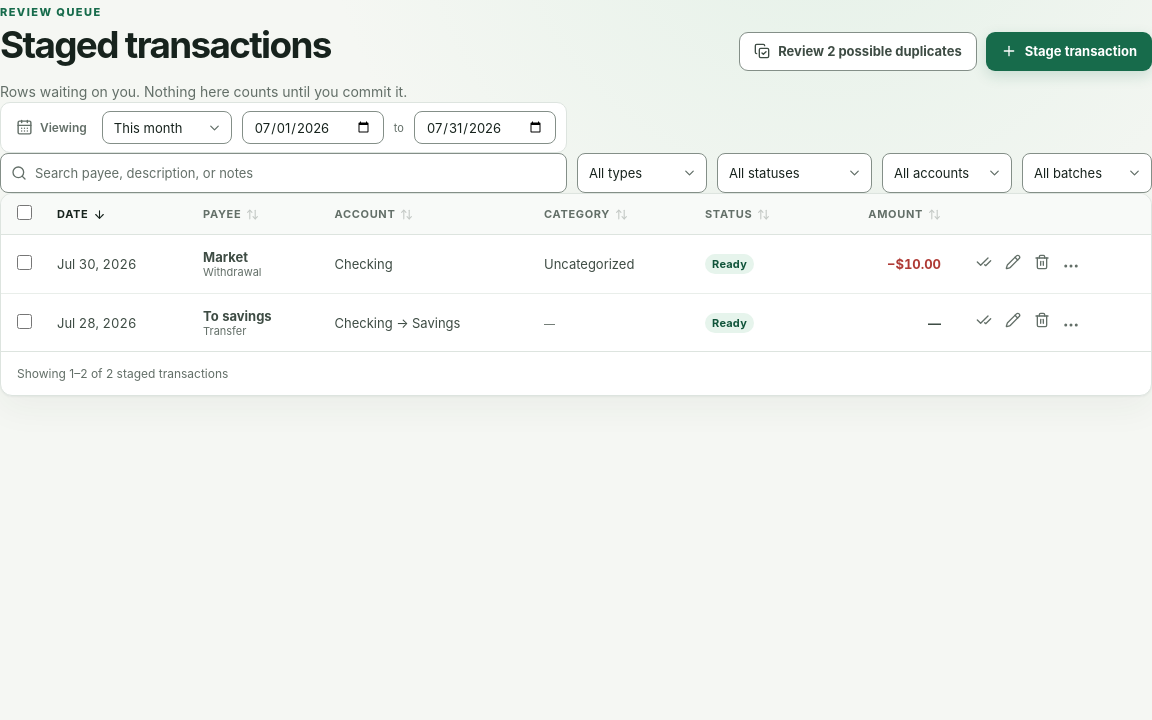
editing staged rows in bulk › withholds account and type while a transfer is selected
expect the text "To savings" is shown: met, box [203,308,272,324]
Click the checkbox named "Select Market": (24, 263) [16,255,32,270]
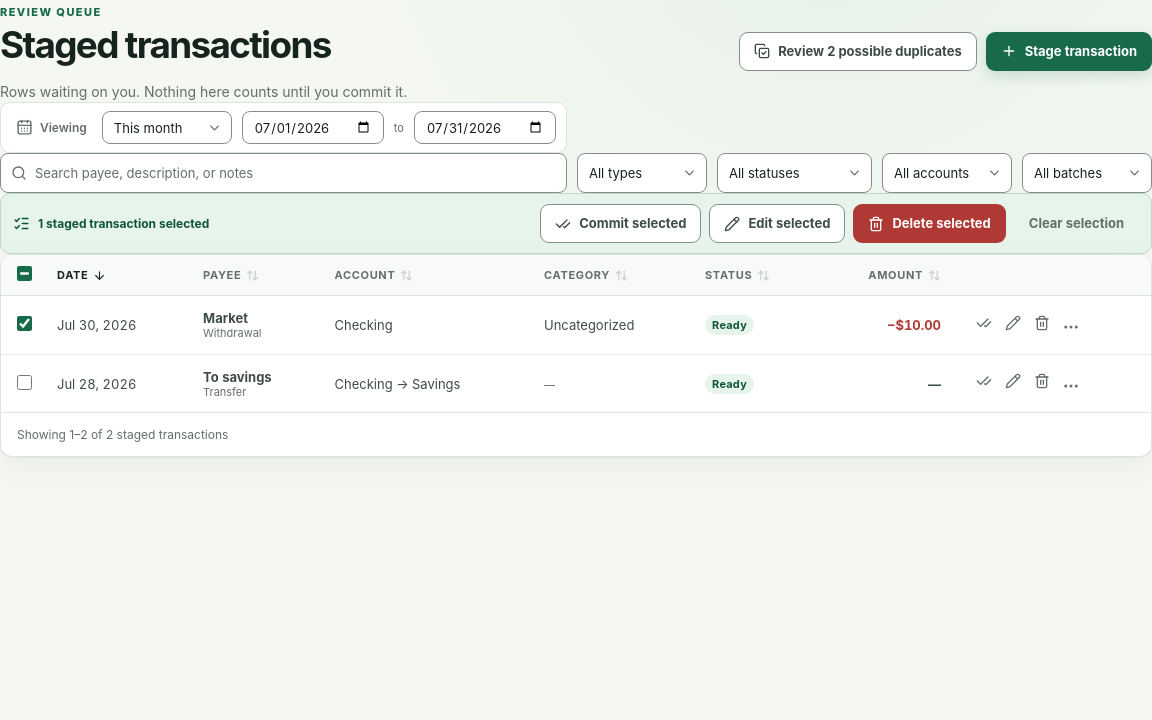
Click the checkbox named "Select To savings": (24, 382) [16,374,32,390]
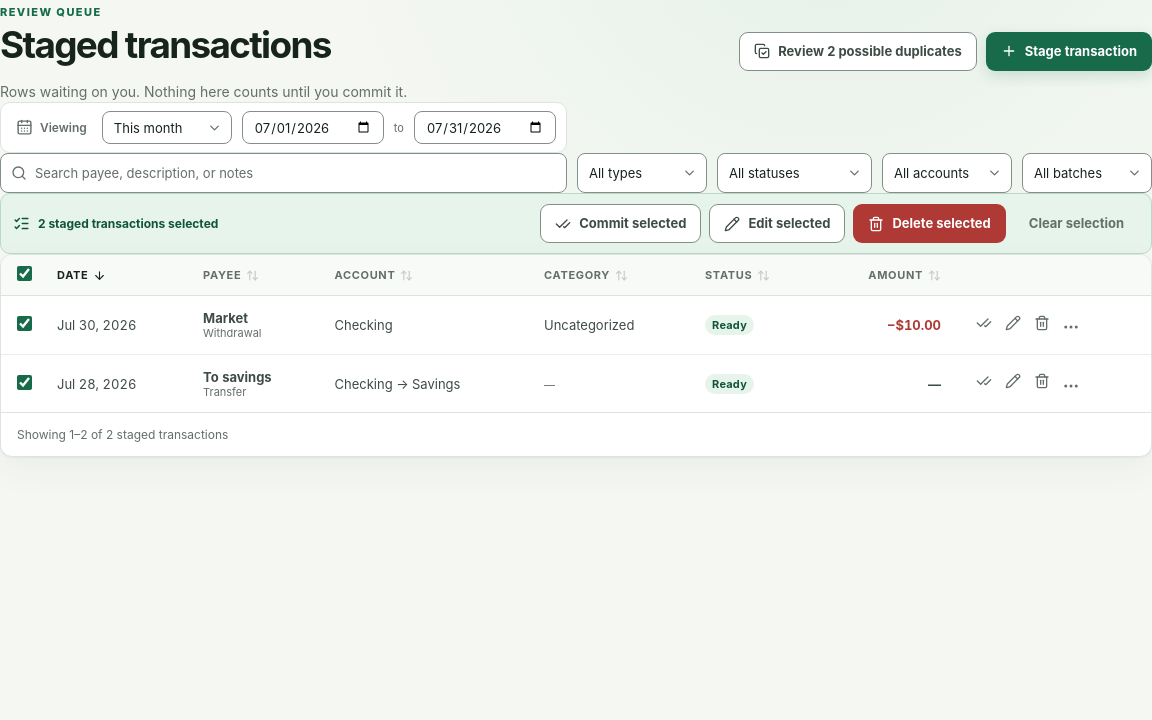
Click the button "Edit selected": (777, 224) [709,204,845,243]
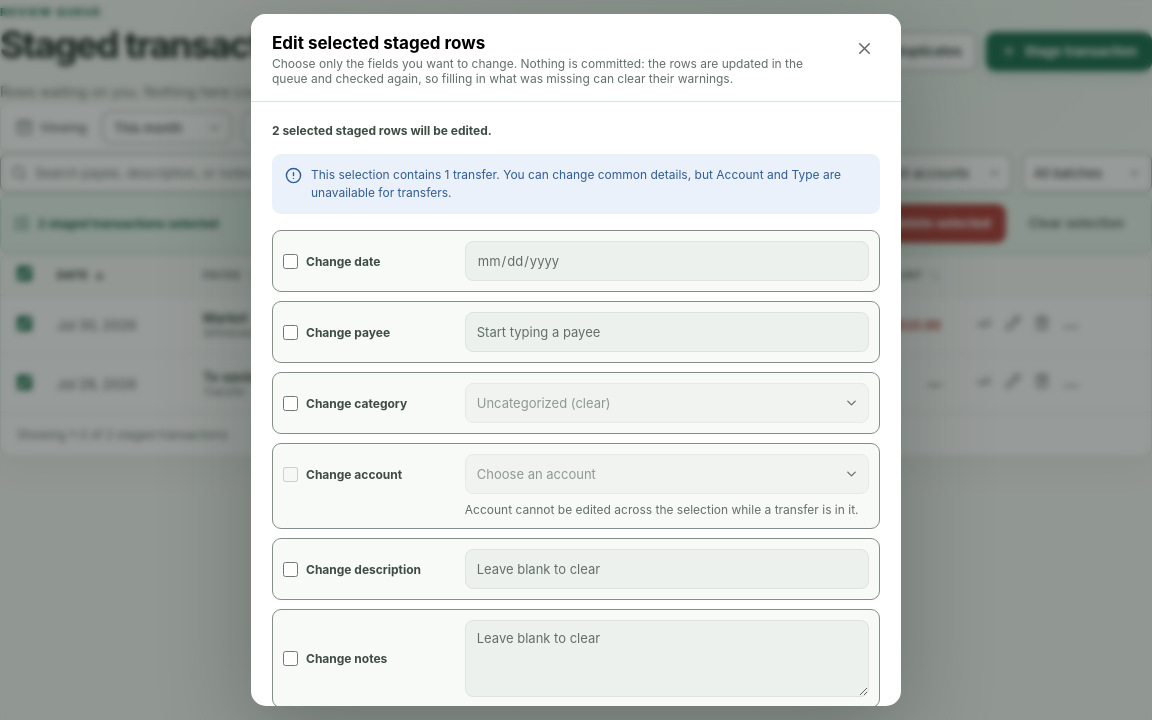
expect the text "This selection contains 1 transfer." is shown: met, box [311,166,867,202]
expect the checkbox labelled "Change account" is disabled: met, box [283,466,298,482]
expect the checkbox labelled "Change payee" is enabled: met, box [283,324,298,340]
